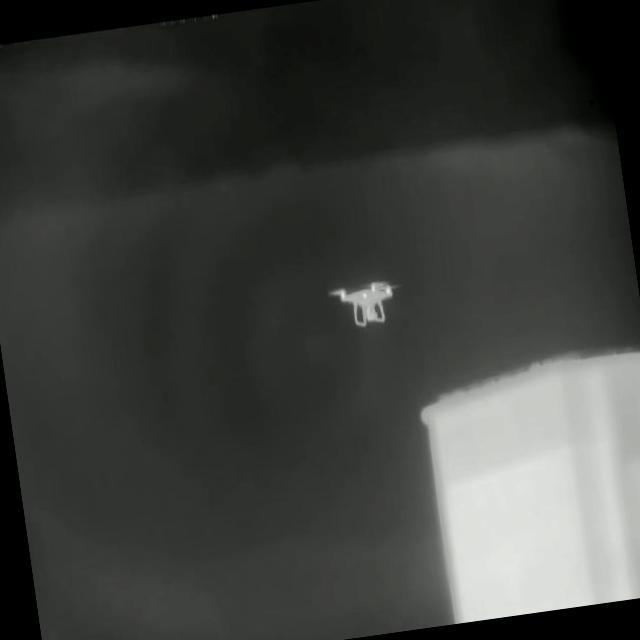DRONE: (327, 275, 410, 330)
